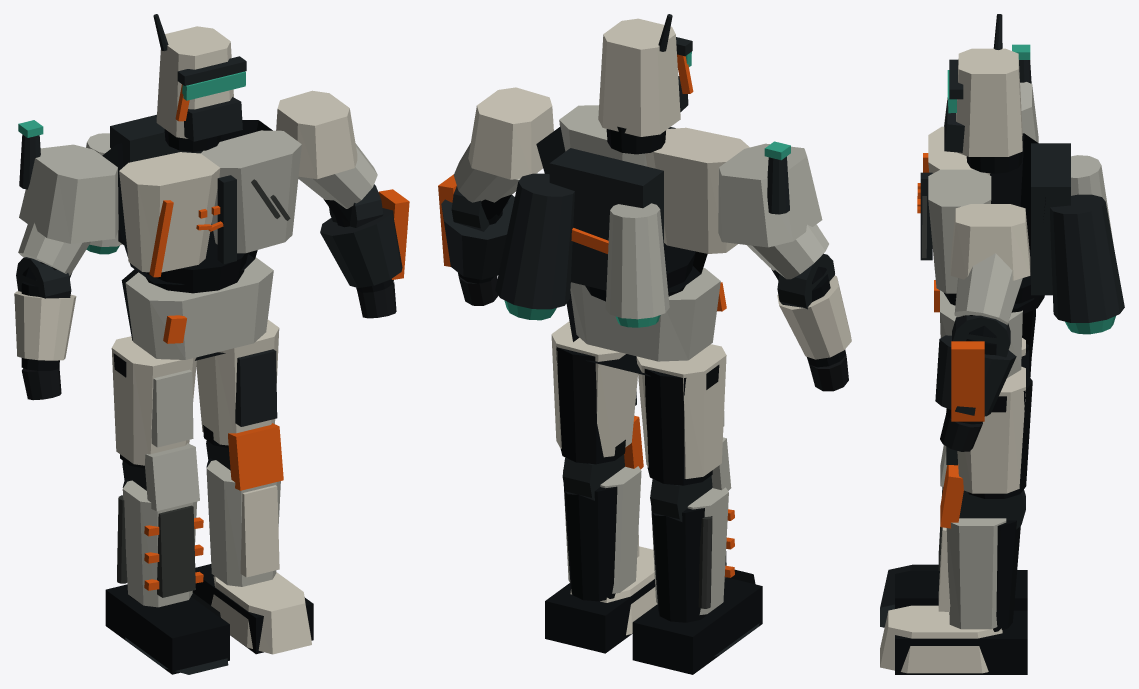
File: yamada_k1_segmented_v2.obj
3 views of the same model, side by side, from view 1: azimuth 30°, elevation 25°; view 2: azimuth 150°, elevation 25°; view 3: azimuth 270°, elevation 25° (orthographic). The views are drawn at different scales.
Parts seen in each view (by area): view 1: PelvisArmor, ChestPlate_L, ShoulderArmor_L, ChestPlate_R, FootCore_L, ThighShell_L, ShoulderArmor_R, FootShell_R, HelmetShell, ForearmShell_R, ShinShell_R, ThighShell_R (+31 smaller); view 2: JetPod_R, HelmetShell, ChestPlate_L, BackFrame, ShoulderArmor_L, PelvisArmor, FootCore_L, JetPod_L, ShoulderArmor_R, ThighShell_L, CalfCore_R, CalfCore_L (+28 smaller); view 3: JetPod_R, HelmetShell, ShinShell_R, FootShell_R, ThighShell_R, ShoulderArmor_R, BackFrame, ChestPlate_R, FootCore_R, UpperArmShell_R, RightForearmTrialRail, ForearmShell_R (+21 smaller).
Part boxes in pixels (x1,y1,x2,y2): PelvisArmor: (125, 257, 273, 359); ChestPlate_L: (119, 152, 220, 272); ShoulderArmor_L: (19, 144, 118, 243); ChestPlate_R: (201, 130, 301, 253); FootCore_L: (105, 584, 229, 674); ThighShell_L: (111, 336, 196, 465); ShoulderArmor_R: (276, 90, 357, 179); FootShell_R: (211, 572, 311, 654); HelmetShell: (156, 26, 233, 138); ForearmShell_R: (320, 208, 402, 287); ShinShell_R: (206, 460, 280, 586); ThighShell_R: (196, 319, 279, 445); JetPod_R: (495, 173, 574, 309); HelmetShell: (598, 18, 680, 136); ChestPlate_L: (645, 127, 749, 253); BackFrame: (549, 148, 663, 290); ShoulderArmor_L: (718, 143, 822, 247); PelvisArmor: (570, 268, 720, 361); FootCore_L: (632, 577, 762, 674); JetPod_L: (605, 203, 669, 319); ShoulderArmor_R: (468, 87, 553, 179); ThighShell_L: (636, 344, 726, 478); CalfCore_R: (563, 484, 617, 601); CalfCore_L: (651, 507, 708, 622); JetPod_R: (1050, 194, 1124, 322); HelmetShell: (956, 48, 1022, 156); ShinShell_R: (946, 518, 1006, 629); FootShell_R: (880, 605, 1002, 673); ThighShell_R: (957, 366, 1025, 493); ShoulderArmor_R: (950, 204, 1030, 280); BackFrame: (1031, 143, 1070, 295); ChestPlate_R: (928, 169, 991, 293); FootCore_R: (895, 610, 1027, 674); UpperArmShell_R: (954, 253, 1022, 325); RightForearmTrialRail: (951, 341, 984, 421); ForearmShell_R: (935, 335, 1016, 416).
Bounding box in the file's own units: 1.32 × 2.03 × 0.7374.
